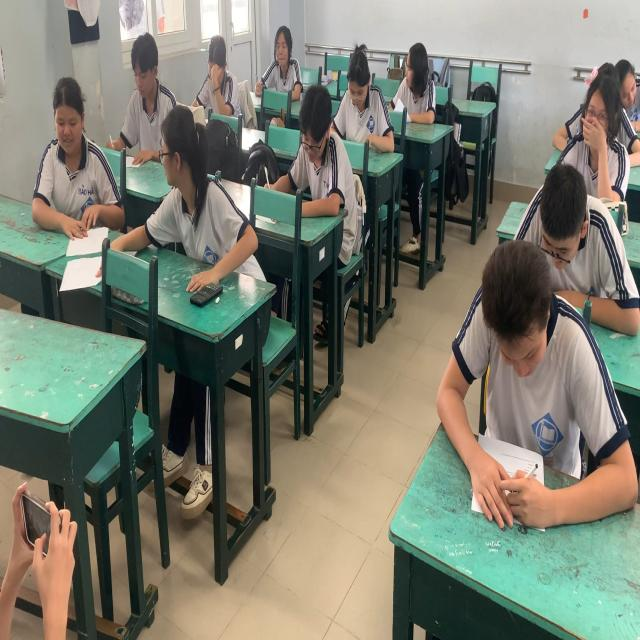cheating: (150, 99, 230, 296), (43, 72, 109, 241), (395, 34, 438, 128)
not_cheating: (456, 236, 591, 512), (521, 160, 624, 298), (274, 77, 348, 236), (562, 81, 622, 191), (200, 28, 256, 139), (125, 25, 172, 148), (339, 31, 384, 153), (590, 44, 640, 144), (266, 5, 302, 100)
